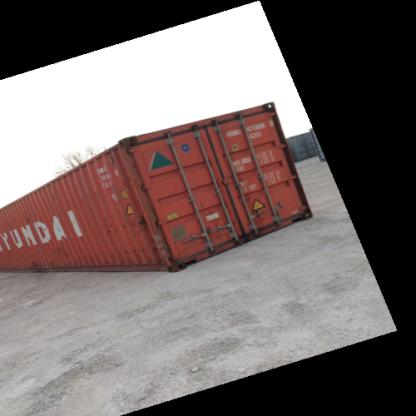Damage: (116, 241, 162, 256), (117, 211, 146, 227), (196, 196, 214, 217), (52, 238, 70, 256), (27, 256, 58, 266), (22, 210, 34, 224), (100, 221, 113, 233)
